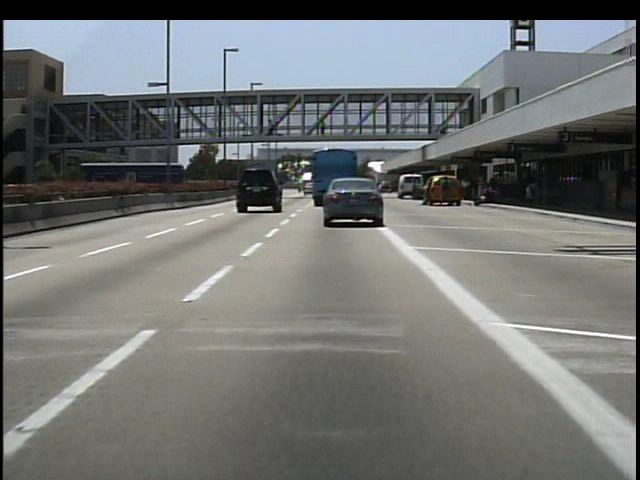person: (439, 176, 456, 211), (317, 116, 330, 142), (266, 115, 280, 137)
